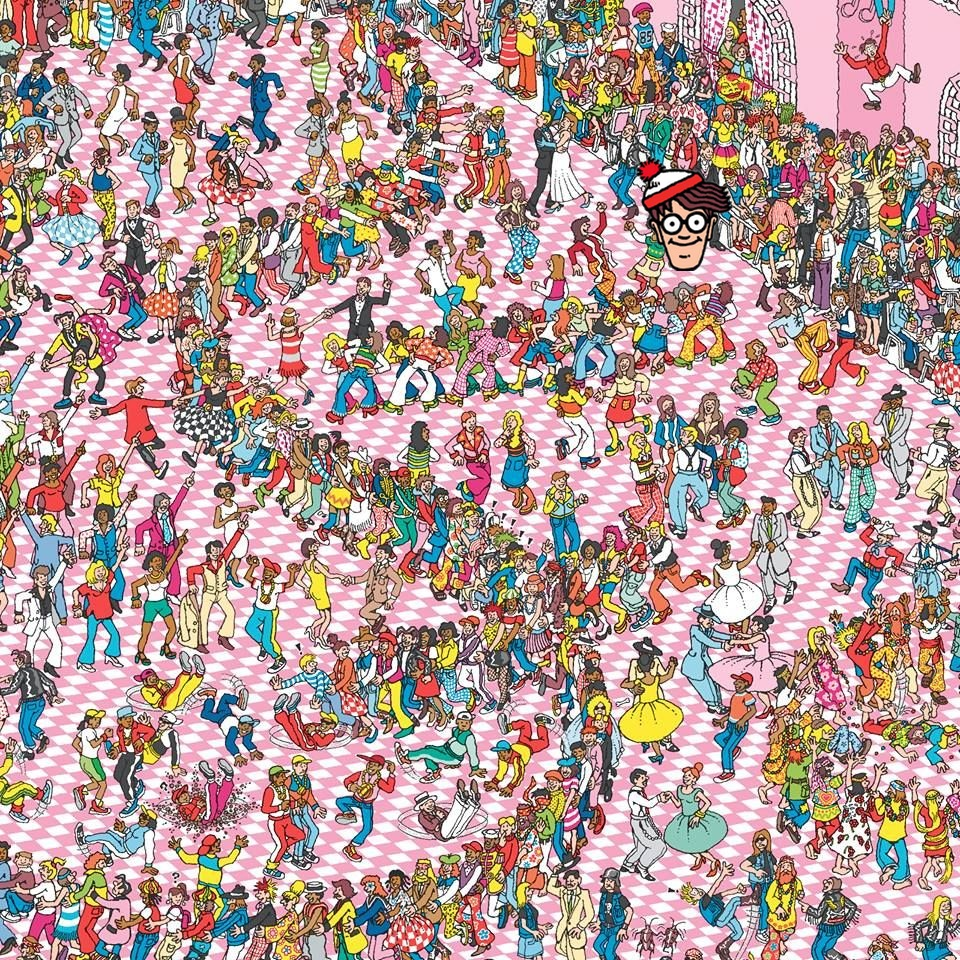waldo: (636, 156, 733, 271)
